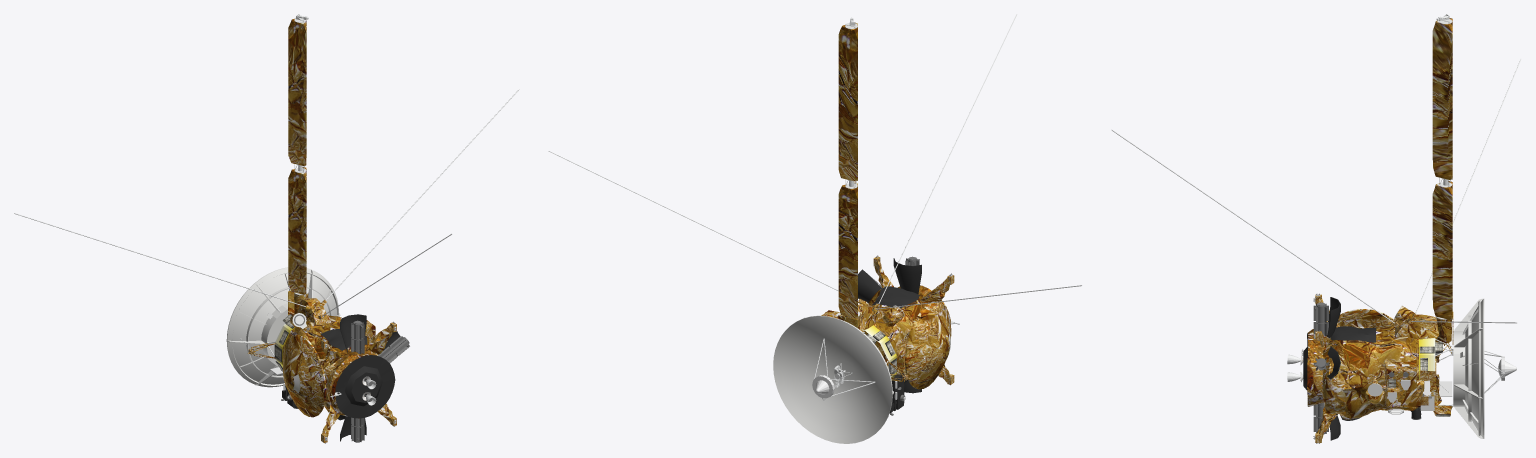
File: cassini_lod0.glb
3 views of the same model, side by side, from view 1: azimuth 30°, elevation 25°; view 2: azimuth 150°, elevation 25°; view 3: azimuth 270°, elevation 25° (orthographic). The views are drawn at different scales.
Visible parts, largest first — view 1: cassini_lod0; view 2: cassini_lod0; view 3: cassini_lod0.
Boxes of the visible parts, x1,y1,x2,y2 form: cassini_lod0: (14, 14, 519, 443); cassini_lod0: (548, 14, 1082, 443); cassini_lod0: (1111, 14, 1521, 443).
Bounding box in the file's own units: 17.94 × 13.08 × 11.64.
Materials: 8 (3 with a texture image).
